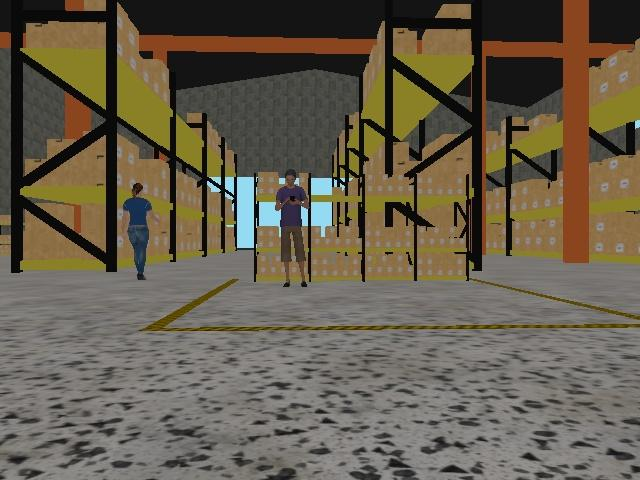person: (274, 168, 311, 288), (120, 182, 162, 281)
